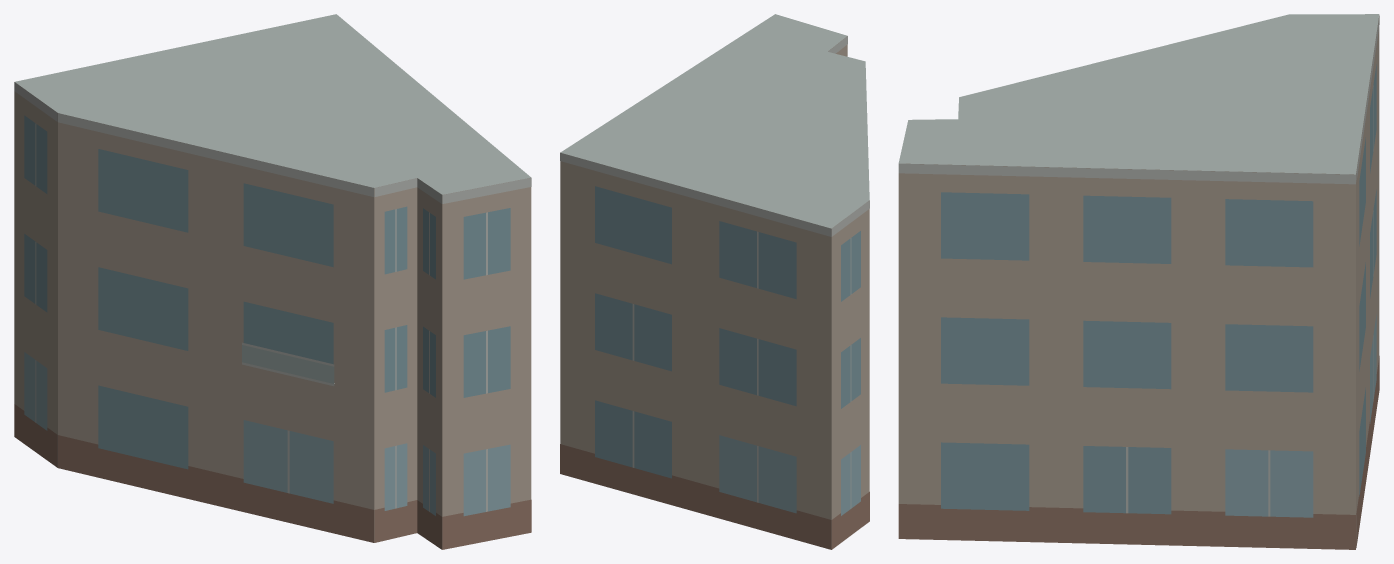
The model's file is survey-upis-32543891.glb.
3 renders of one model, left to right at view 1: azimuth 30°, elevation 25°; view 2: azimuth 150°, elevation 25°; view 3: azimuth 270°, elevation 25°, orthographic. The views are drawn at different scales.
Parts seen in each view (by area): view 1: survey-upis-32543891.tmp; view 2: survey-upis-32543891.tmp; view 3: survey-upis-32543891.tmp.
Part boxes in pixels (x1,y1,x2,y2): survey-upis-32543891.tmp: (14,14,531,549); survey-upis-32543891.tmp: (560,14,869,549); survey-upis-32543891.tmp: (898,14,1379,549).
Bounding box in the file's own units: 8.54 × 9.3 × 10.81.
